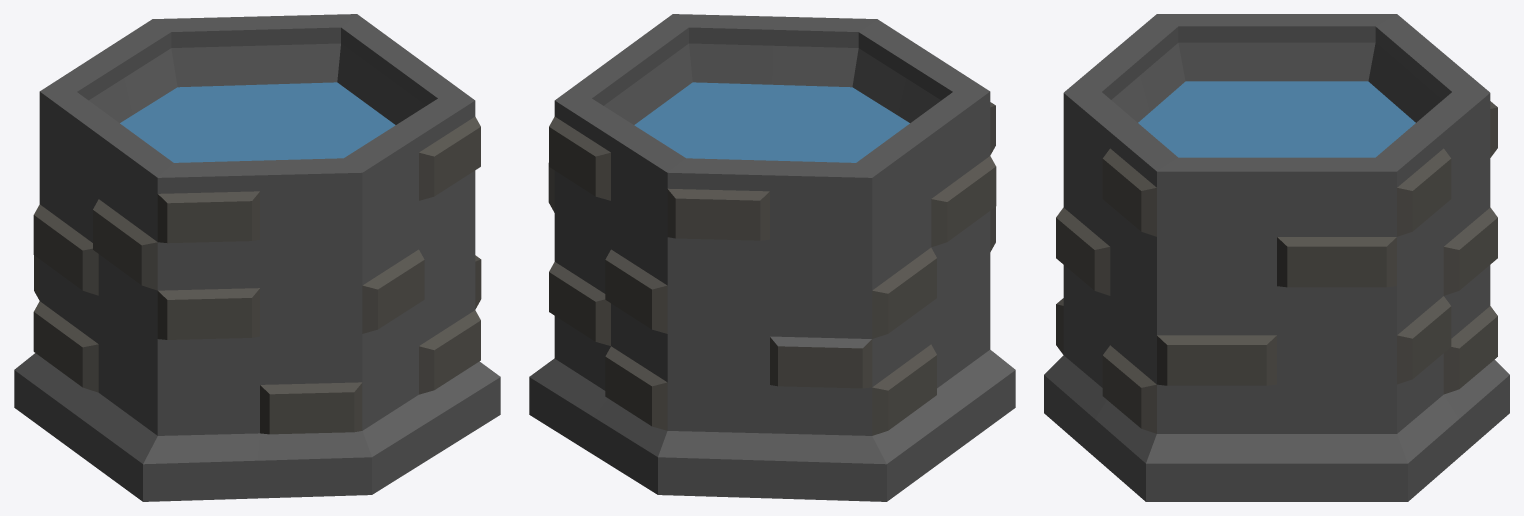
Rendered from studnia.fbx.
The picture shows the model from 3 angles, left to right: view 1: azimuth 30°, elevation 25°; view 2: azimuth 150°, elevation 25°; view 3: azimuth 270°, elevation 25°; orthographic projection.
Parts seen in each view (by area): view 1: studnia; view 2: studnia; view 3: studnia.
Part boxes in pixels (<box>): studnia: <box>14,14,500,501</box>; studnia: <box>529,14,1015,501</box>; studnia: <box>1044,14,1509,501</box>.
Bounding box in the file's own units: 345 × 291 × 383.
